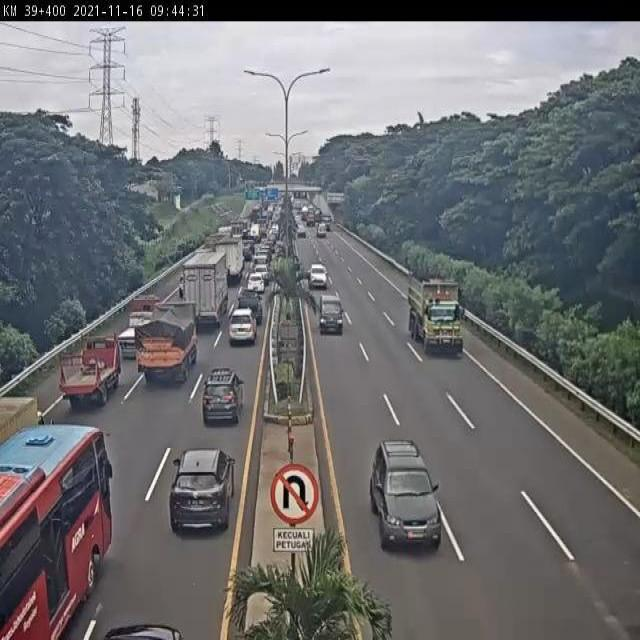car: (370, 439, 441, 549), (168, 448, 235, 533), (201, 371, 243, 425), (228, 310, 258, 346), (320, 295, 346, 333), (235, 296, 262, 332), (247, 274, 266, 294)
small truck: (59, 336, 121, 408), (117, 293, 163, 356)
truck-l-: (410, 277, 462, 352), (183, 252, 226, 328)
truck-m-: (136, 305, 196, 383), (212, 236, 244, 284)
